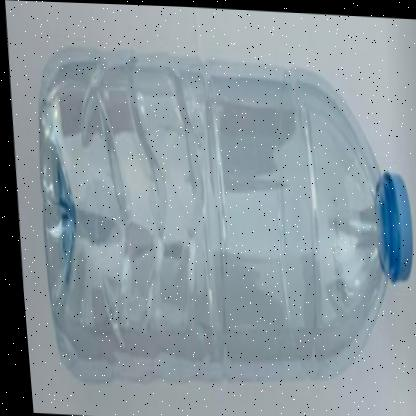bottle cap: (304, 12, 416, 416)
